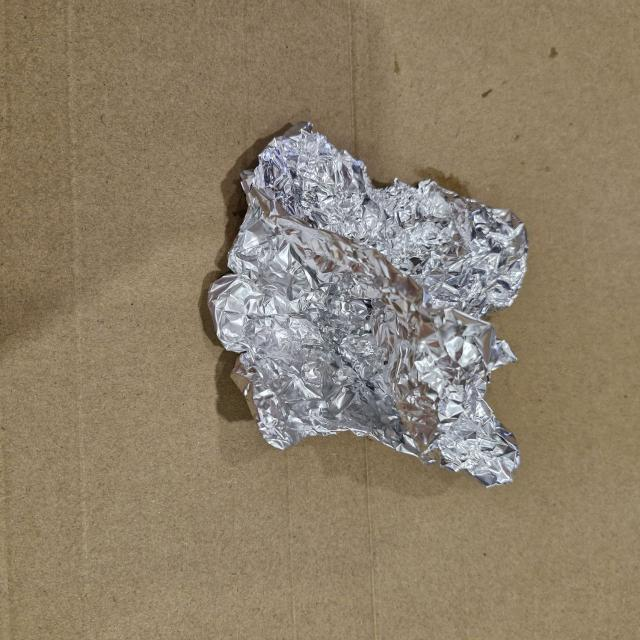metal: (206, 118, 538, 496)
